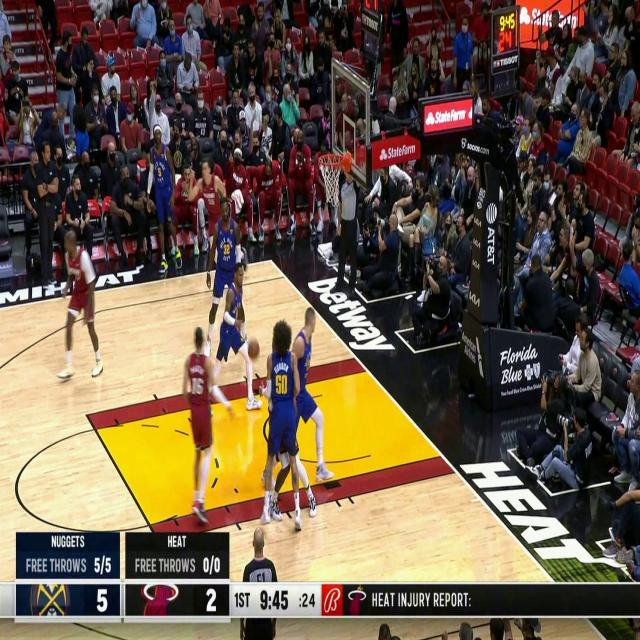rim: (248, 340, 260, 360)
